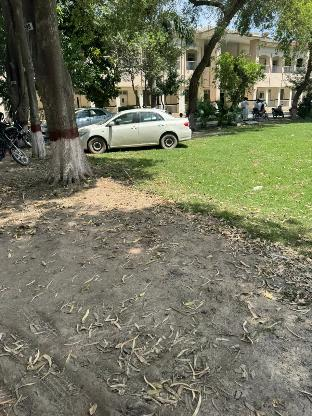car: (76, 106, 195, 155)
tree: (22, 0, 88, 194)
